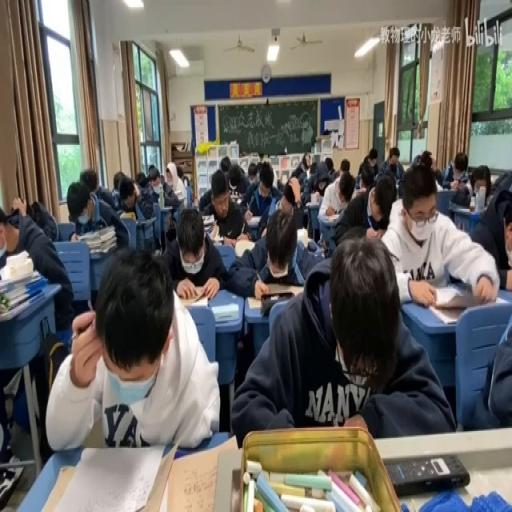calculator: (44, 441, 174, 509), (164, 438, 237, 512), (246, 283, 304, 310), (422, 284, 468, 310), (210, 302, 238, 322), (233, 236, 254, 256), (448, 200, 474, 214), (294, 224, 308, 248), (201, 214, 216, 234), (186, 296, 210, 307), (322, 209, 342, 222), (171, 186, 185, 202), (137, 214, 155, 224), (245, 215, 261, 226), (306, 199, 320, 206), (355, 185, 366, 193)
paper: (231, 234, 448, 444), (50, 244, 220, 454), (0, 193, 73, 458), (380, 160, 500, 304), (464, 293, 510, 429), (162, 204, 228, 298), (65, 176, 128, 256), (334, 170, 382, 248), (243, 160, 282, 238), (150, 162, 182, 231), (118, 174, 148, 224), (302, 159, 332, 205), (406, 149, 440, 188), (28, 199, 58, 242), (377, 145, 403, 191), (442, 149, 471, 189), (227, 161, 251, 203), (276, 175, 301, 215), (468, 164, 491, 200), (358, 146, 379, 180), (491, 169, 512, 199), (80, 168, 98, 193), (338, 179, 354, 202), (112, 170, 125, 190), (247, 160, 258, 180), (219, 155, 230, 174), (110, 189, 120, 209), (134, 171, 146, 186), (324, 155, 334, 172), (339, 158, 350, 173), (298, 158, 309, 173), (433, 166, 442, 184), (427, 155, 437, 171), (175, 165, 184, 181), (308, 162, 317, 176), (131, 181, 139, 196), (260, 151, 270, 162), (411, 154, 421, 164), (159, 174, 165, 186), (182, 176, 189, 186)
person: (386, 452, 470, 494), (0, 462, 24, 509)
